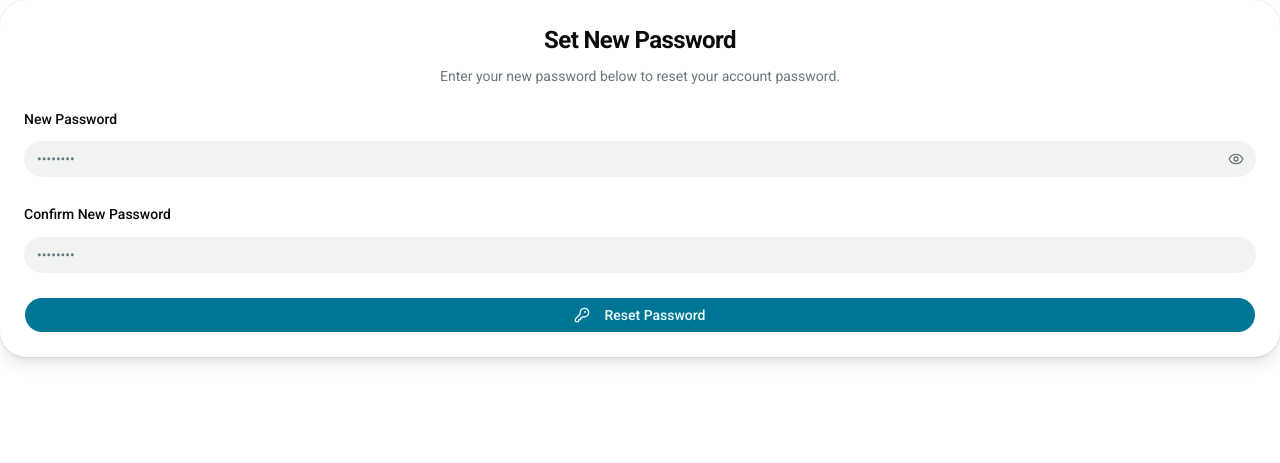
Test case: ResetPasswordPage Component › displays error message when password reset fails
This screenshot has width=1280, height=463.
Type "newsecret123" into the password field labelled "New Password" at [640, 159], box top-left (24, 141), bottom-right (1256, 177)
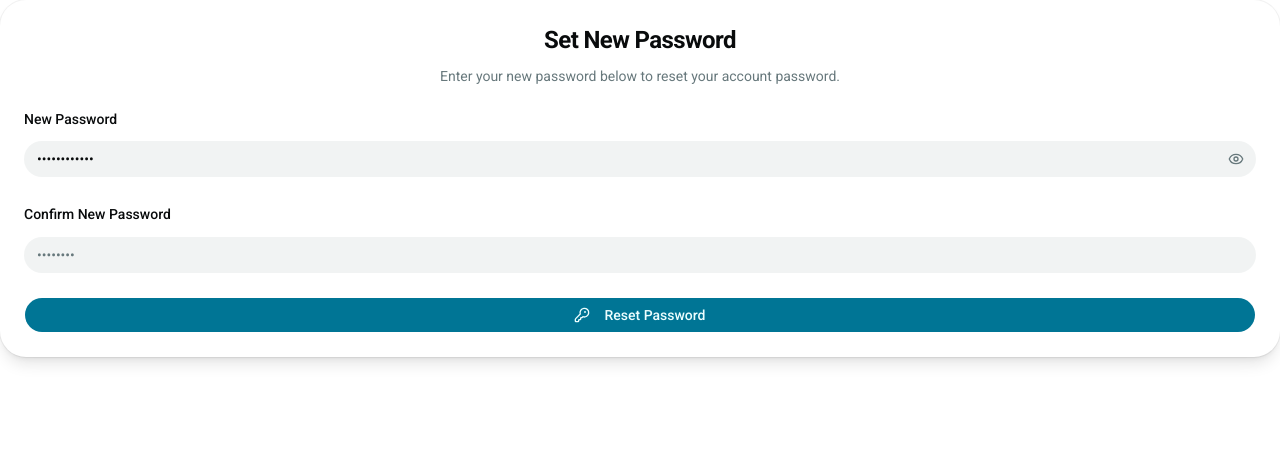
Type "newsecret123" into the password field labelled "Confirm New Password" at [640, 254], box top-left (24, 236), bottom-right (1256, 272)
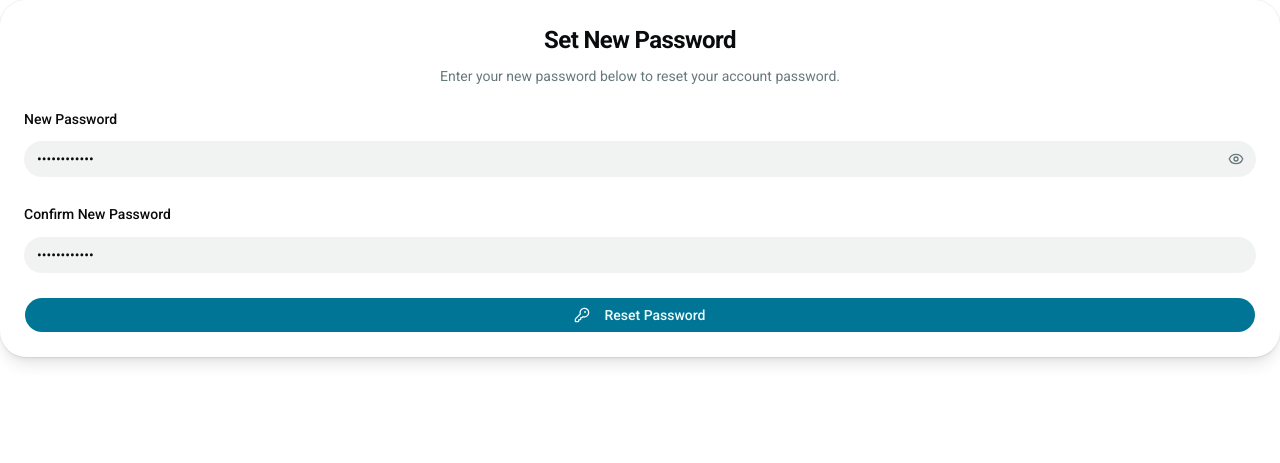
Click the button "Reset Password" at [640, 314], box top-left (24, 296), bottom-right (1256, 332)
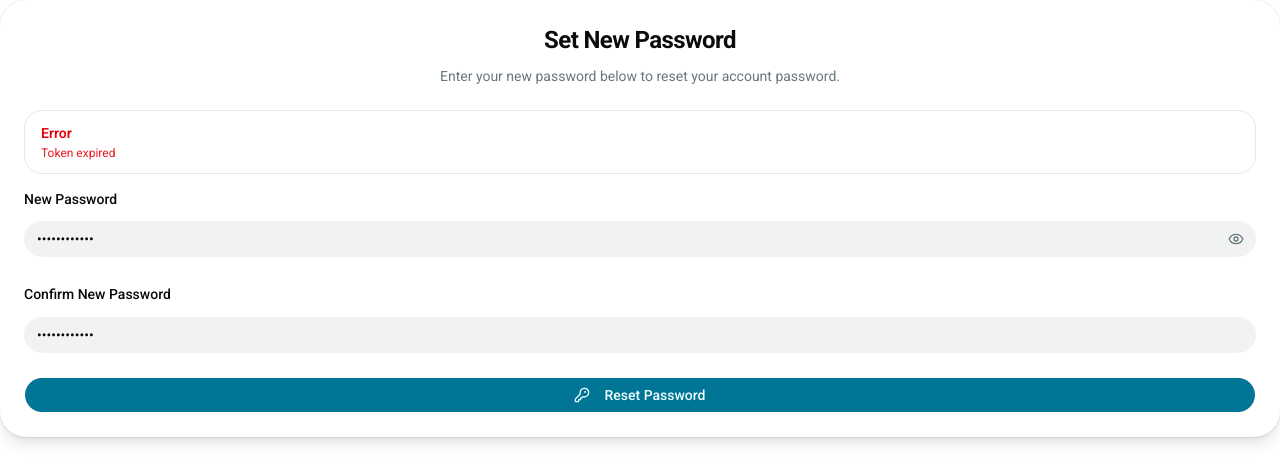
Expected: the text "Token expired" is shown, top-left (41, 146), bottom-right (115, 160)
